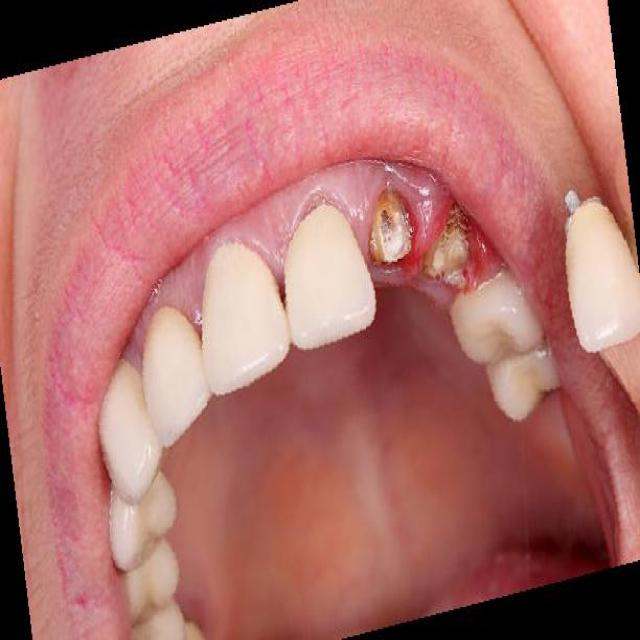caries: (422, 204, 482, 293), (365, 186, 419, 275)
